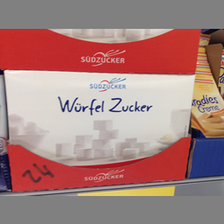tomato_sauce: (3, 70, 195, 165)
